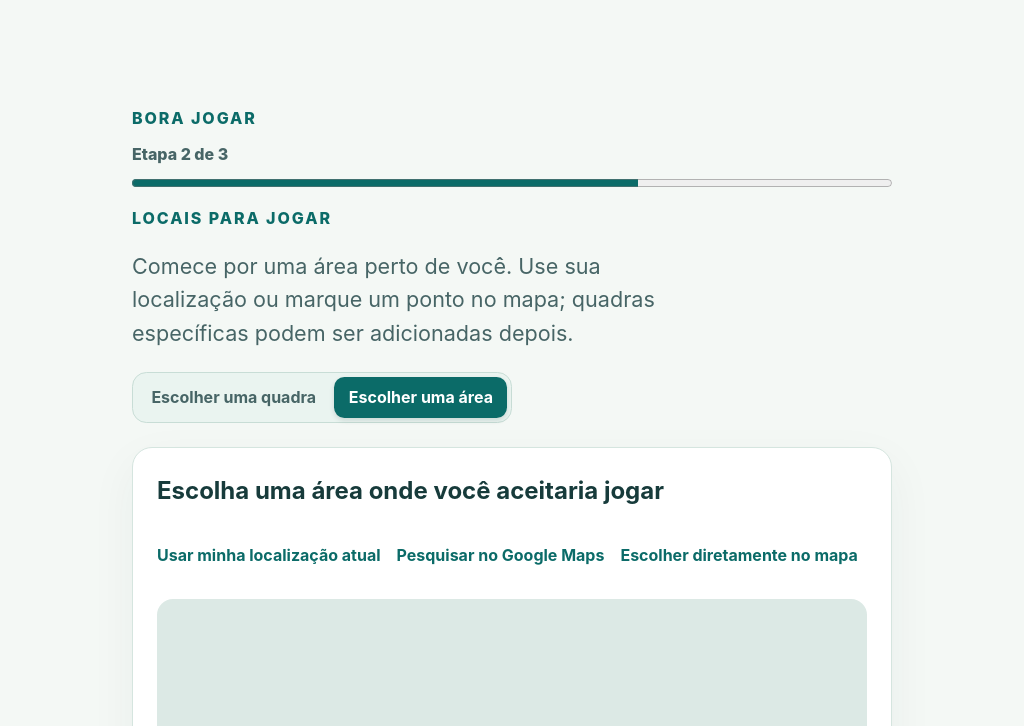
Test: OnboardingPage › continues after choosing current location without manual area setup
Click the button "Usar minha localização atual" at (269, 556), box [157,530,380,583]
(page scrolled)
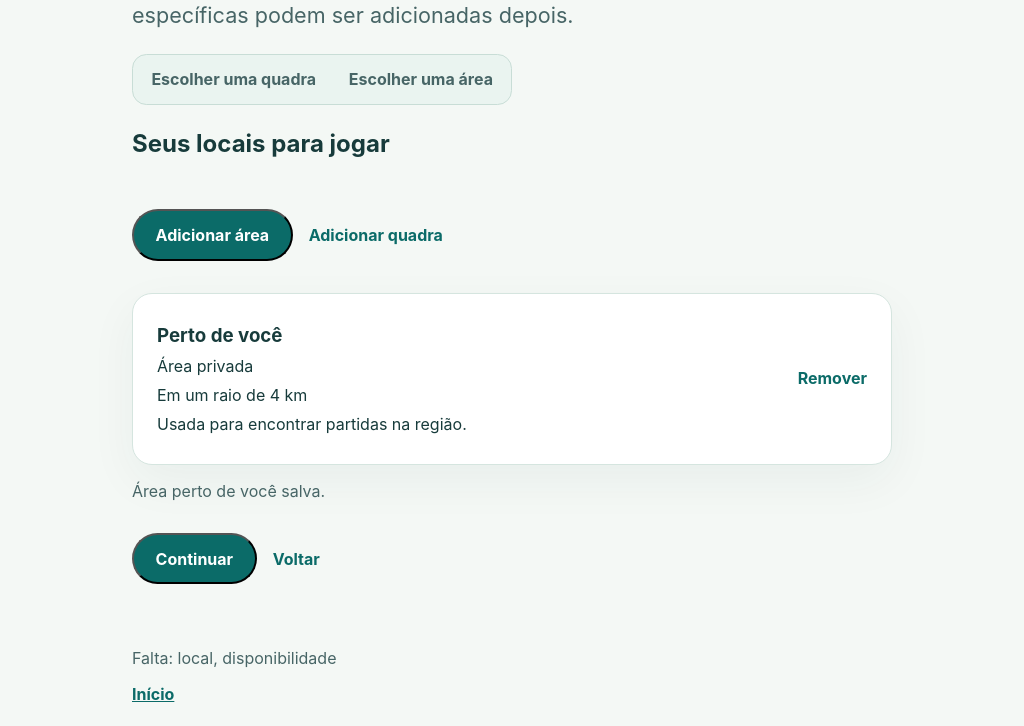
Click the button "Continuar" at (194, 559), box [132,533,257,584]
(page scrolled)
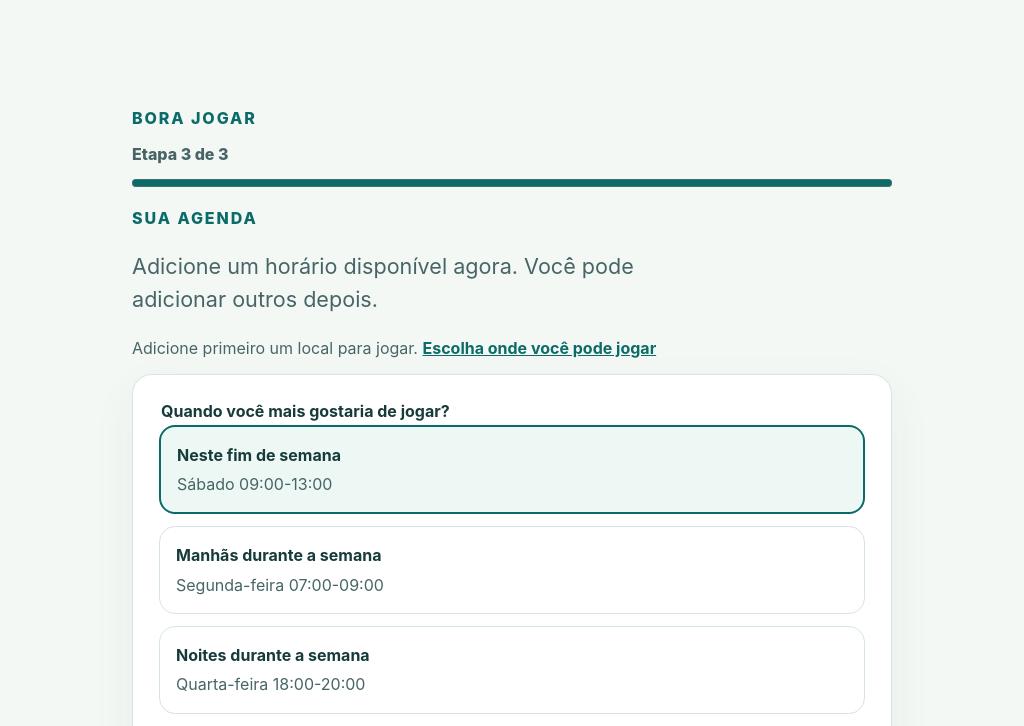
Check: the text "Sua agenda" is shown, box [132,208,258,228]
